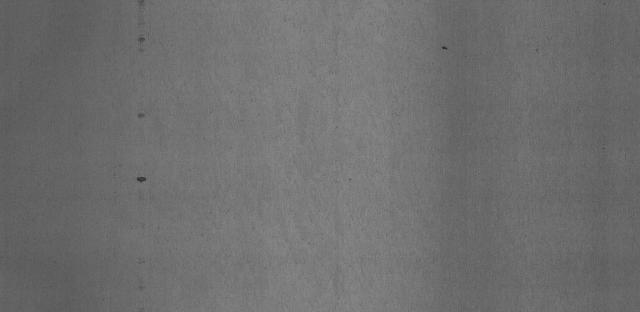oil_spot: (135, 0, 149, 50), (132, 171, 147, 192), (135, 103, 147, 121)
